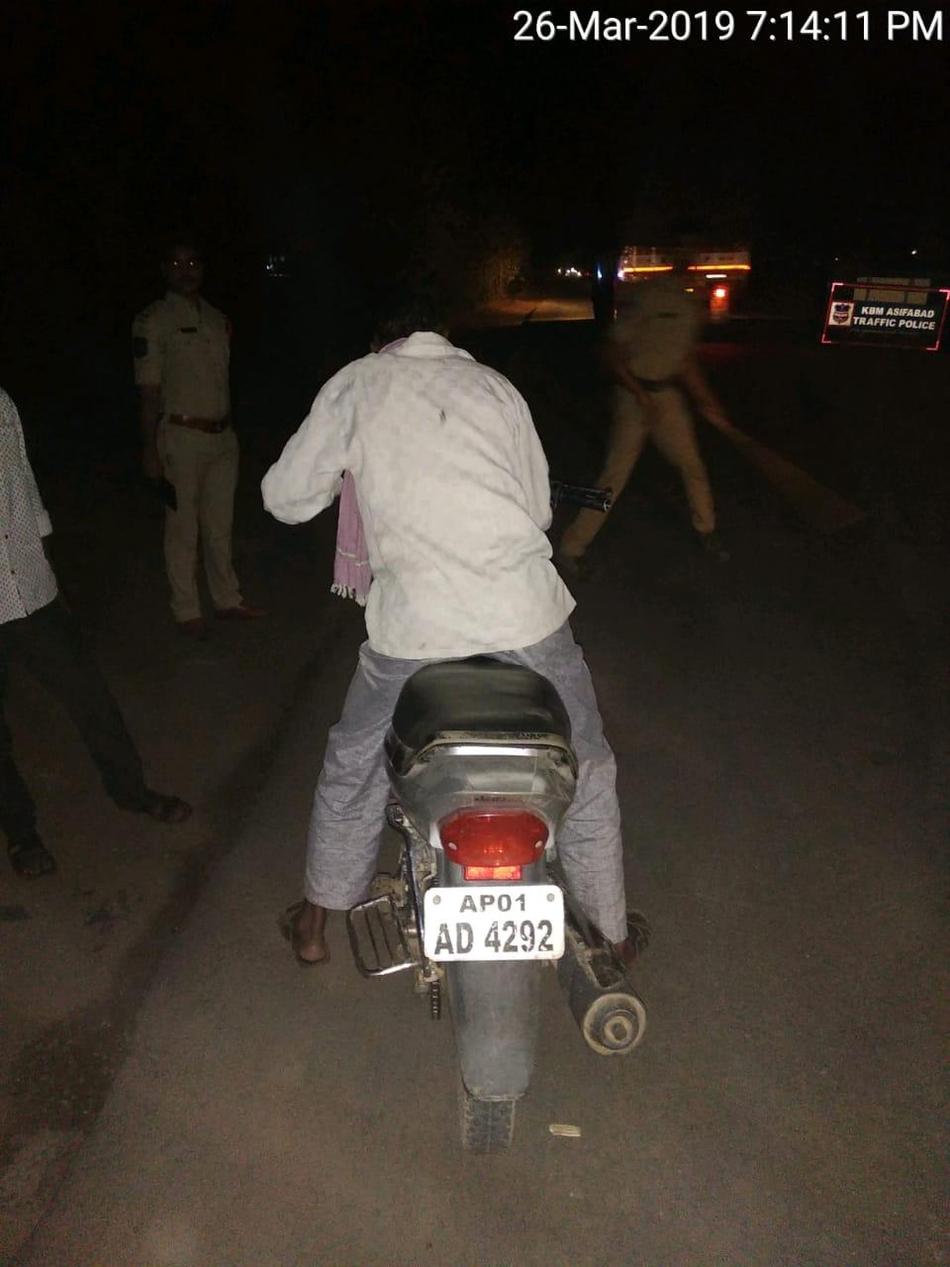plate: (392, 876, 601, 981)
